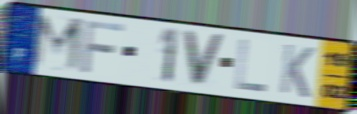1: (158, 26, 180, 86)
F: (78, 19, 126, 76)
K: (278, 42, 317, 101)
L: (233, 38, 268, 95)
M: (29, 11, 86, 76)
V: (181, 28, 226, 90)
